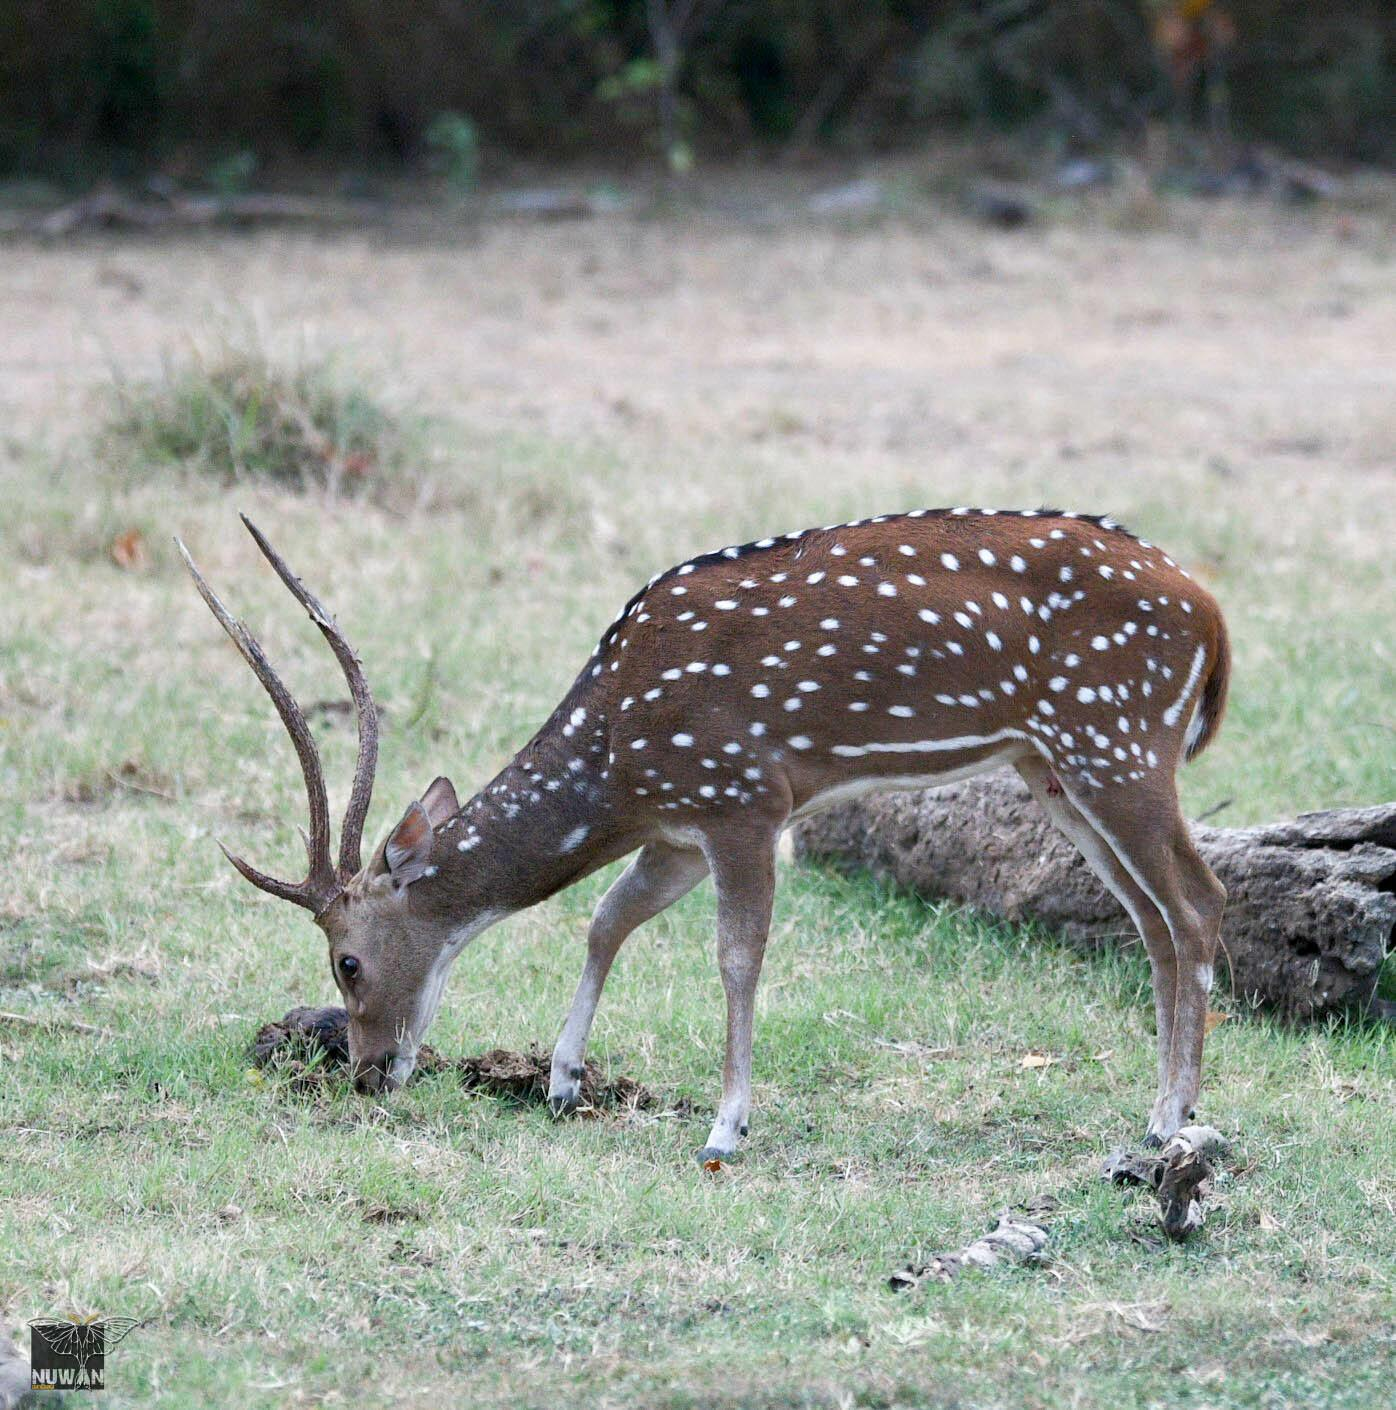Deer: (187, 509, 1230, 1158)
